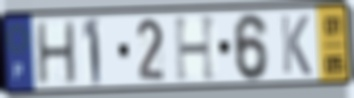1: (80, 16, 103, 88)
2: (135, 17, 166, 83)
6: (232, 11, 272, 82)
H: (171, 13, 218, 84), (34, 19, 79, 87)
K: (278, 13, 314, 78)
